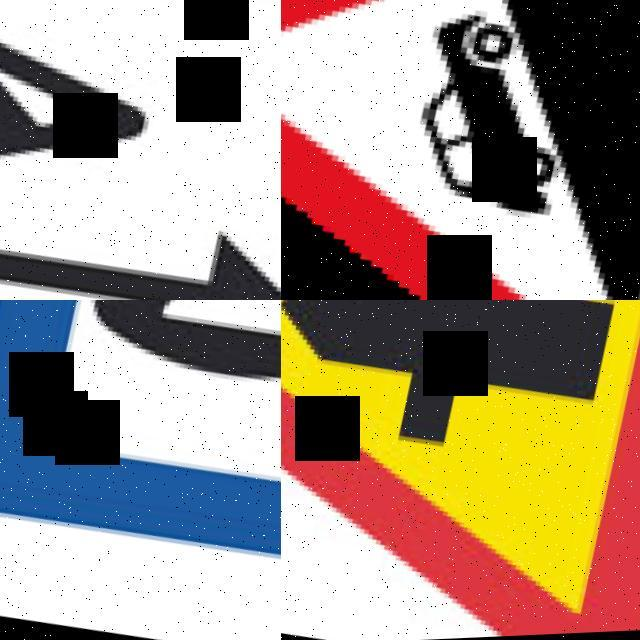166: (281, 300, 640, 640)
56: (0, 300, 281, 640)
66: (0, 0, 281, 300)
Steep ascent: (281, 0, 640, 300)
